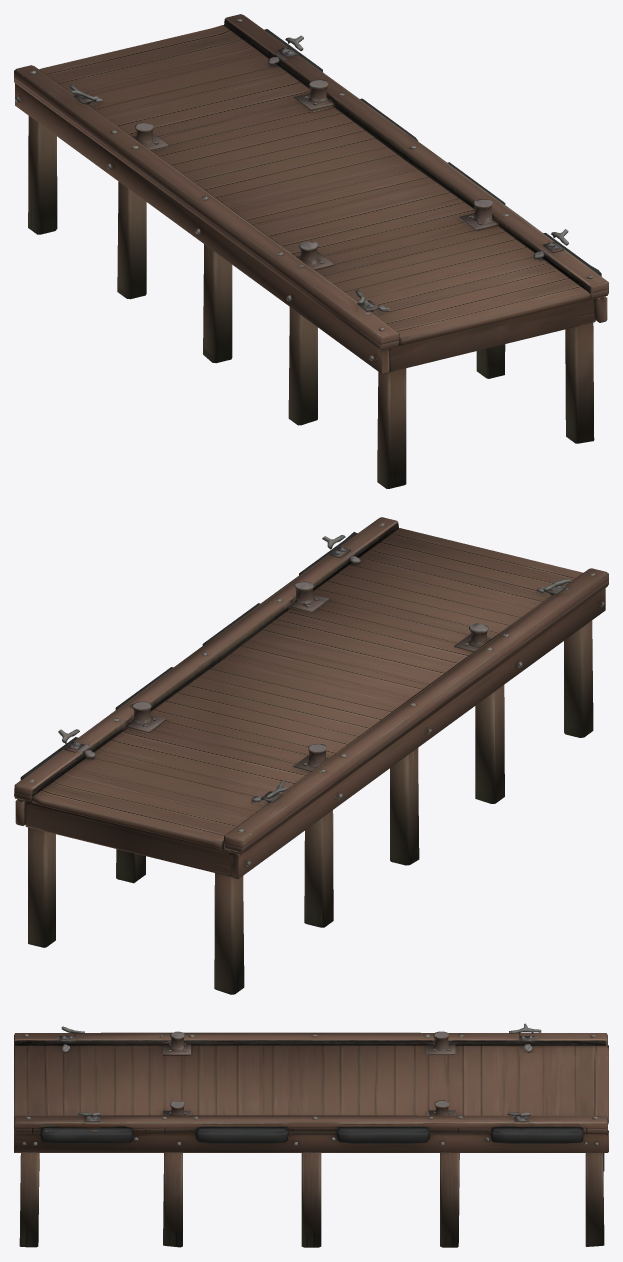
File: original_glb.glb
3 renders of one model, top to bottom at view 1: azimuth 30°, elevation 25°; view 2: azimuth 150°, elevation 25°; view 3: azimuth 270°, elevation 25°, orthographic. The views are drawn at different scales.
Parts seen in each view (by area): view 1: Harbor Dock; view 2: Harbor Dock; view 3: Harbor Dock.
Boxes of the visible parts, x1,y1,x2,y2 form: Harbor Dock: (14, 14, 608, 488); Harbor Dock: (14, 517, 608, 994); Harbor Dock: (14, 1023, 608, 1247).
Bounding box in the file's own units: 0.3809 × 0.2598 × 0.998.
Materials: 1 (1 with a texture image).
